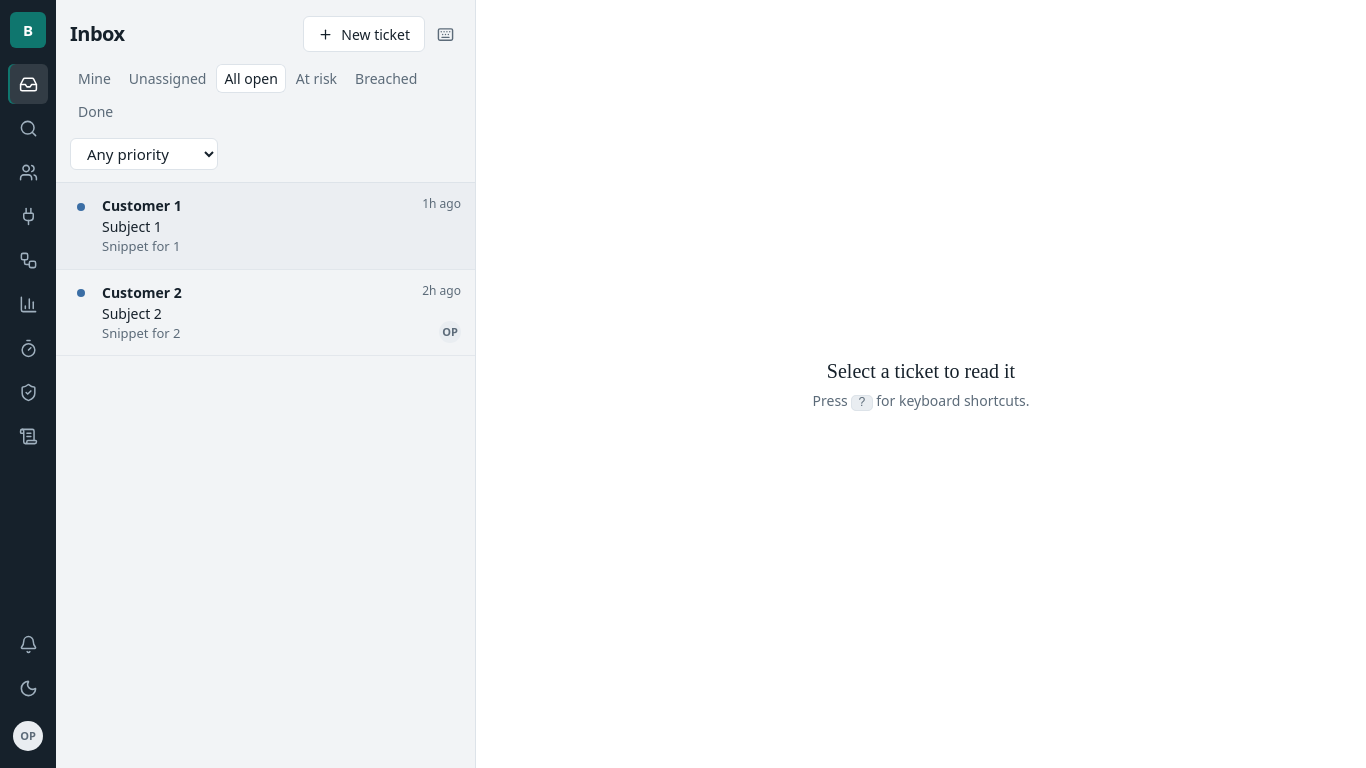
Test: inbox › switches views and requests the matching tickets
Check: the text "Subject 1" is shown, box [102,217,162,236]
Step 1. Click the tab "Unassigned" → (168, 78), box [121,64,214,93]
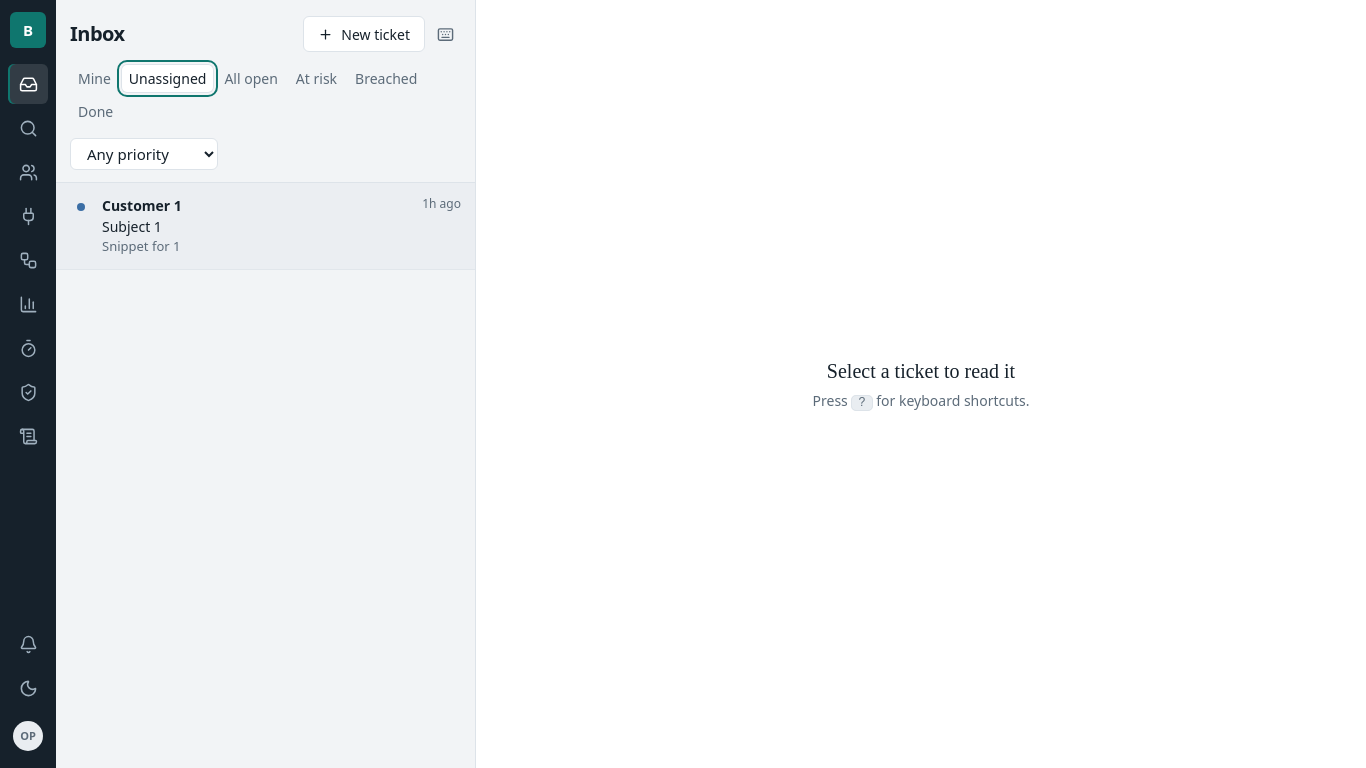
Check: the text "Subject 1" is shown, box [102,217,162,236]
Check: the link "Subject 2" is gone
Step 2. Click the tab "Mine" → (94, 78), box [70,64,119,93]
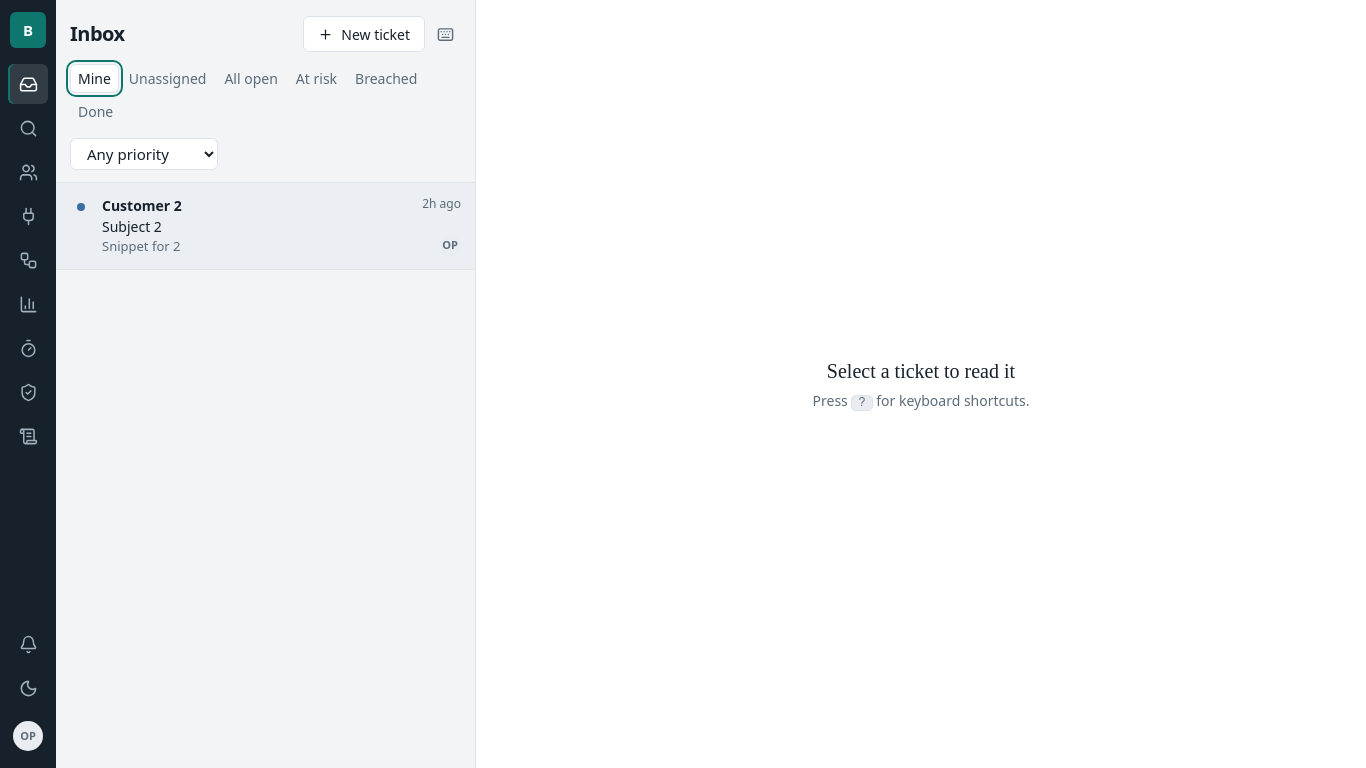
Check: the text "Subject 2" is shown, box [102,217,162,236]
